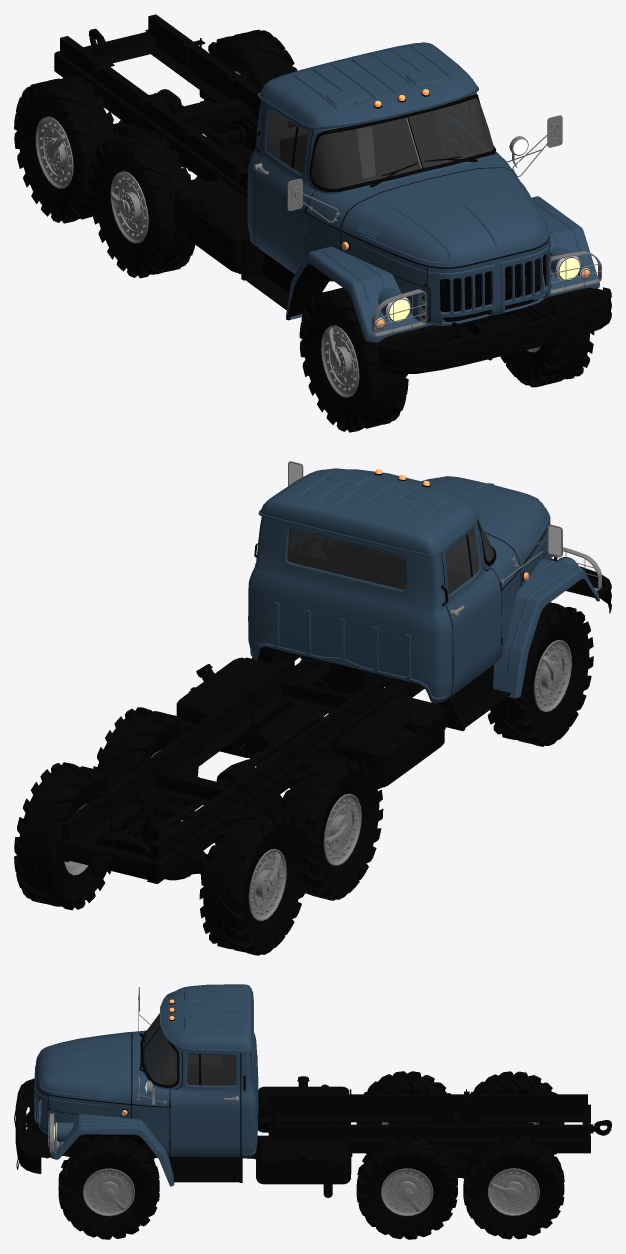
File: zil_131.glb
3 renders of one model, top to bottom at view 1: azimuth 30°, elevation 25°; view 2: azimuth 150°, elevation 25°; view 3: azimuth 270°, elevation 25°, orthographic. The views are drawn at different scales.
Visible parts, largest first — view 1: chassis_body [prim,env,_0, rama_Material #258_0, chassis_Matte: 80343434_0, R10, R19, R01, chassis_Material #258_0, chassis_Material #257_0, L25, dnishe_Material #258_0, L16, R16 (+4 smaller); view 2: chassis_body [prim,env,_0, rama_Material #258_0, R19, R10, L25, R01, chassis_Matte: 80343434_0, dnishe_Material #258_0, L07, chassis_Material #258_0, R16, R25 (+3 smaller); view 3: chassis_body [prim,env,_0, rama_Material #258_0, L25, L16, L07, chassis_Matte: 80343434_0, chassis_Material #258_0, L01, L19, L10, R10, dnishe_Material #258_0 (+3 smaller).
Part boxes in pixels (left/top/right/bottom): chassis_body [prim,env,_0: left=247, top=42, right=599, bottom=342; rama_Material #258_0: left=54, top=14, right=611, bottom=373; chassis_Matte: 80343434_0: left=266, top=98, right=493, bottom=188; R10: left=88, top=130, right=195, bottom=278; R19: left=14, top=75, right=118, bottom=223; R01: left=299, top=287, right=408, bottom=432; chassis_Material #258_0: left=241, top=92, right=546, bottom=320; chassis_Material #257_0: left=254, top=115, right=601, bottom=336; L25: left=199, top=29, right=297, bottom=149; dnishe_Material #258_0: left=58, top=78, right=539, bottom=336; L16: left=500, top=284, right=594, bottom=387; R16: left=110, top=171, right=148, bottom=243; chassis_body [prim,env,_0: left=248, top=468, right=599, bottom=703; rama_Material #258_0: left=56, top=555, right=611, bottom=883; R19: left=199, top=807, right=308, bottom=955; R10: left=278, top=752, right=383, bottom=900; L25: left=14, top=762, right=122, bottom=910; R01: left=487, top=602, right=593, bottom=746; chassis_Matte: 80343434_0: left=287, top=521, right=493, bottom=593; dnishe_Material #258_0: left=76, top=662, right=377, bottom=900; L07: left=93, top=707, right=198, bottom=837; chassis_Material #258_0: left=252, top=473, right=598, bottom=731; R16: left=323, top=793, right=361, bottom=865; R25: left=248, top=848, right=286, bottom=920; chassis_body [prim,env,_0: left=34, top=984, right=258, bottom=1186; rama_Material #258_0: left=14, top=1076, right=611, bottom=1197; L25: left=463, top=1135, right=564, bottom=1239; L16: left=58, top=1135, right=159, bottom=1239; L07: left=356, top=1135, right=457, bottom=1239; chassis_Matte: 80343434_0: left=143, top=1013, right=251, bottom=1085; chassis_Material #258_0: left=63, top=1002, right=242, bottom=1182; L01: left=381, top=1168, right=433, bottom=1216; L19: left=488, top=1168, right=539, bottom=1215; L10: left=83, top=1168, right=134, bottom=1216; R10: left=356, top=1071, right=450, bottom=1154; dnishe_Material #258_0: left=26, top=1109, right=528, bottom=1178.
Bounding box in the file's own units: 0.0664 × 0.063 × 0.1768.
